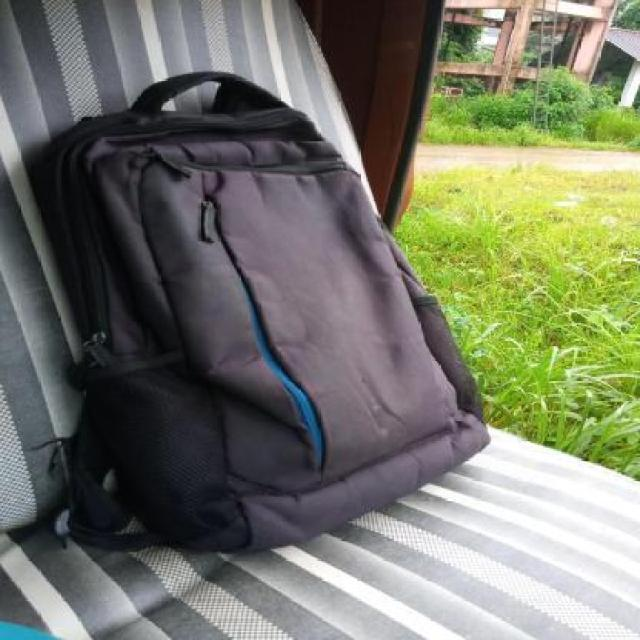backpack: (29, 66, 497, 560)
